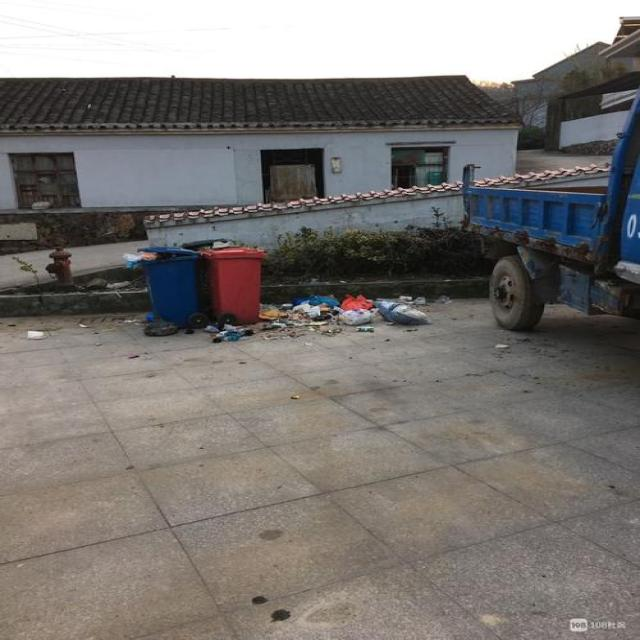garbage: (202, 292, 433, 344)
garbage_bin: (197, 245, 264, 322)
overflow: (126, 246, 200, 323)
